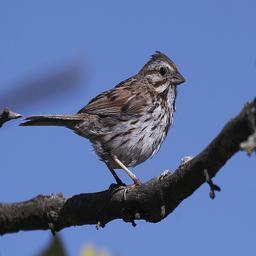Sparrow: (16, 47, 187, 200)
